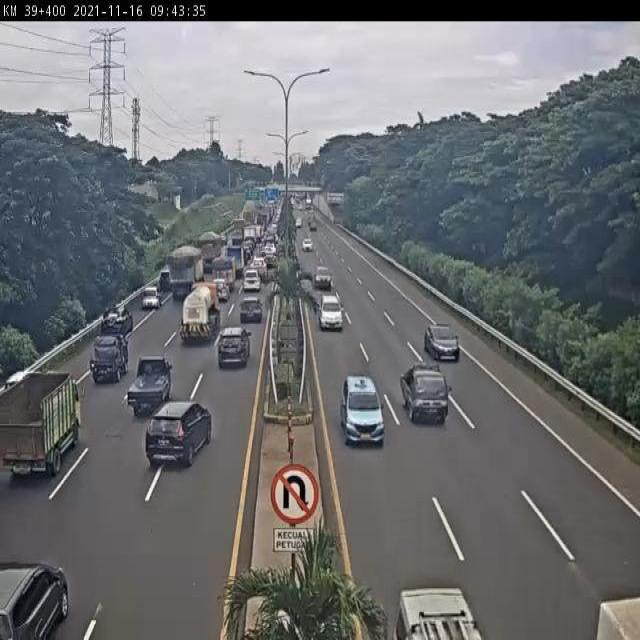car: (144, 398, 212, 471), (399, 360, 451, 428), (339, 374, 386, 446), (128, 353, 174, 415), (90, 332, 131, 384), (215, 327, 249, 377), (426, 323, 461, 361), (101, 305, 135, 339), (319, 295, 344, 328), (237, 296, 263, 327), (138, 285, 162, 315), (151, 269, 175, 295), (208, 281, 229, 308), (242, 270, 259, 294)
small truck: (0, 376, 79, 488)
truck-m-: (174, 279, 223, 349), (164, 245, 205, 307)
